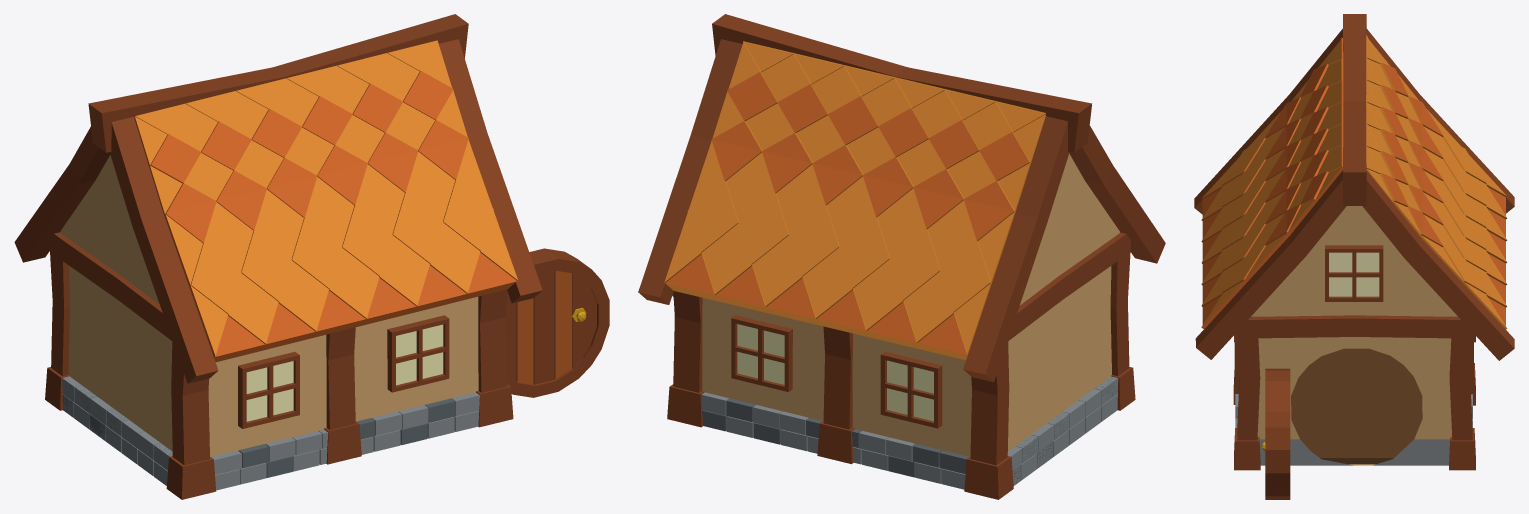
Rendered from HOUSE OPEN1.fbx.
3 renders of one model, left to right at view 1: azimuth 30°, elevation 25°; view 2: azimuth 150°, elevation 25°; view 3: azimuth 270°, elevation 25°, orthographic. The views are drawn at different scales.
Visible parts, largest first — view 1: Cube.063; view 2: Cube.063; view 3: Cube.063.
Part boxes in pixels (x1,y1,x2,y2): Cube.063: (14, 14, 609, 499); Cube.063: (638, 14, 1165, 499); Cube.063: (1194, 14, 1514, 499).
Size of the model in its own units: 3428 by 2455 by 2321.
